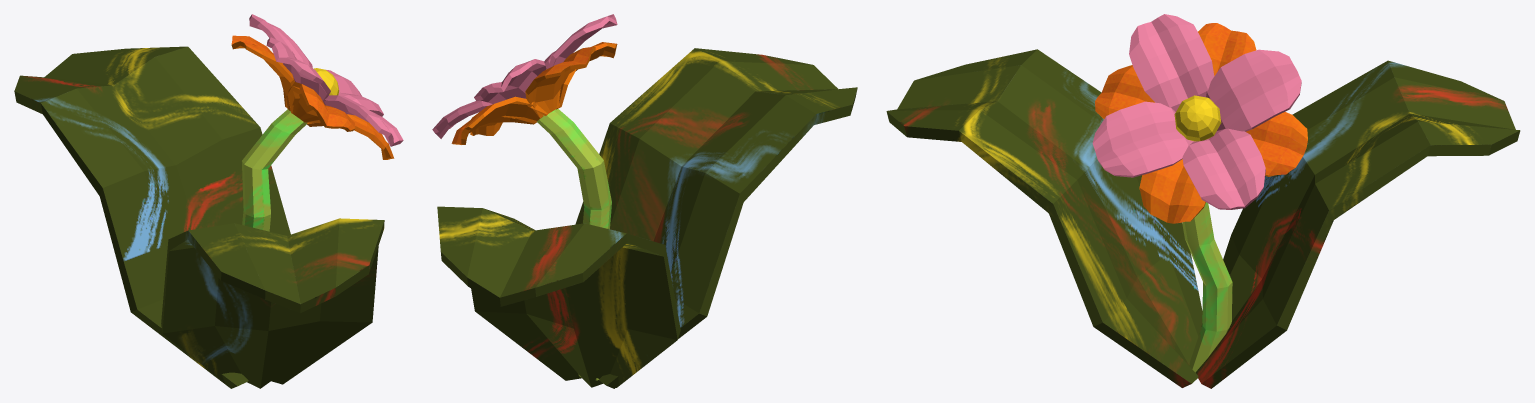
The model's file is FLOR2.fbx.
3 renders of one model, left to right at view 1: azimuth 30°, elevation 25°; view 2: azimuth 150°, elevation 25°; view 3: azimuth 270°, elevation 25°, orthographic. The views are drawn at different scales.
Visible parts, largest first — view 1: Cube.011, Cube.004, Cube.006, Cube.009; view 2: Cube.011, Cube.006, Cube.009, Cube.004; view 3: Cube.011, Cube.004, Cube.006, Cube.009, Cube.001.
Part boxes in pixels (x1,y1,x2,y2): Cube.011: (14, 46, 384, 388); Cube.004: (249, 14, 403, 146); Cube.006: (231, 35, 394, 159); Cube.009: (242, 109, 307, 231); Cube.011: (437, 48, 857, 388); Cube.006: (451, 42, 617, 144); Cube.009: (537, 109, 611, 380); Cube.004: (432, 14, 617, 138); Cube.011: (886, 49, 1520, 388); Cube.004: (1092, 14, 1301, 209); Cube.006: (1095, 23, 1307, 223); Cube.009: (1182, 202, 1232, 372); Cube.001: (1174, 95, 1221, 141).
Bounding box in the file's own units: 110 × 129 × 203.
1 material, 1 textured.
